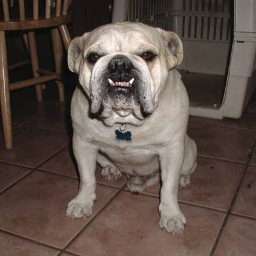dog: (66, 20, 199, 235)
